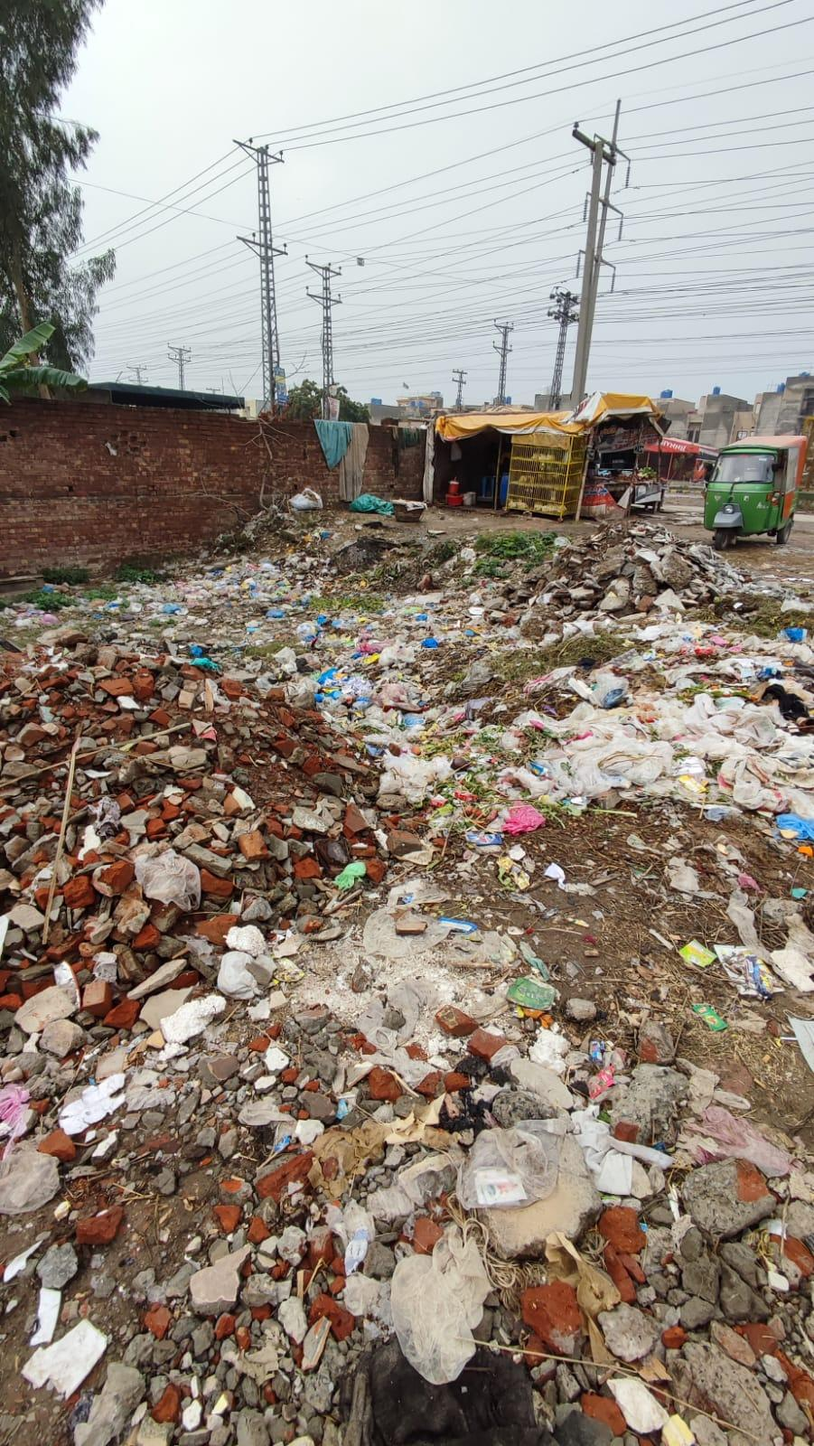garbage: (52, 528, 814, 945)
